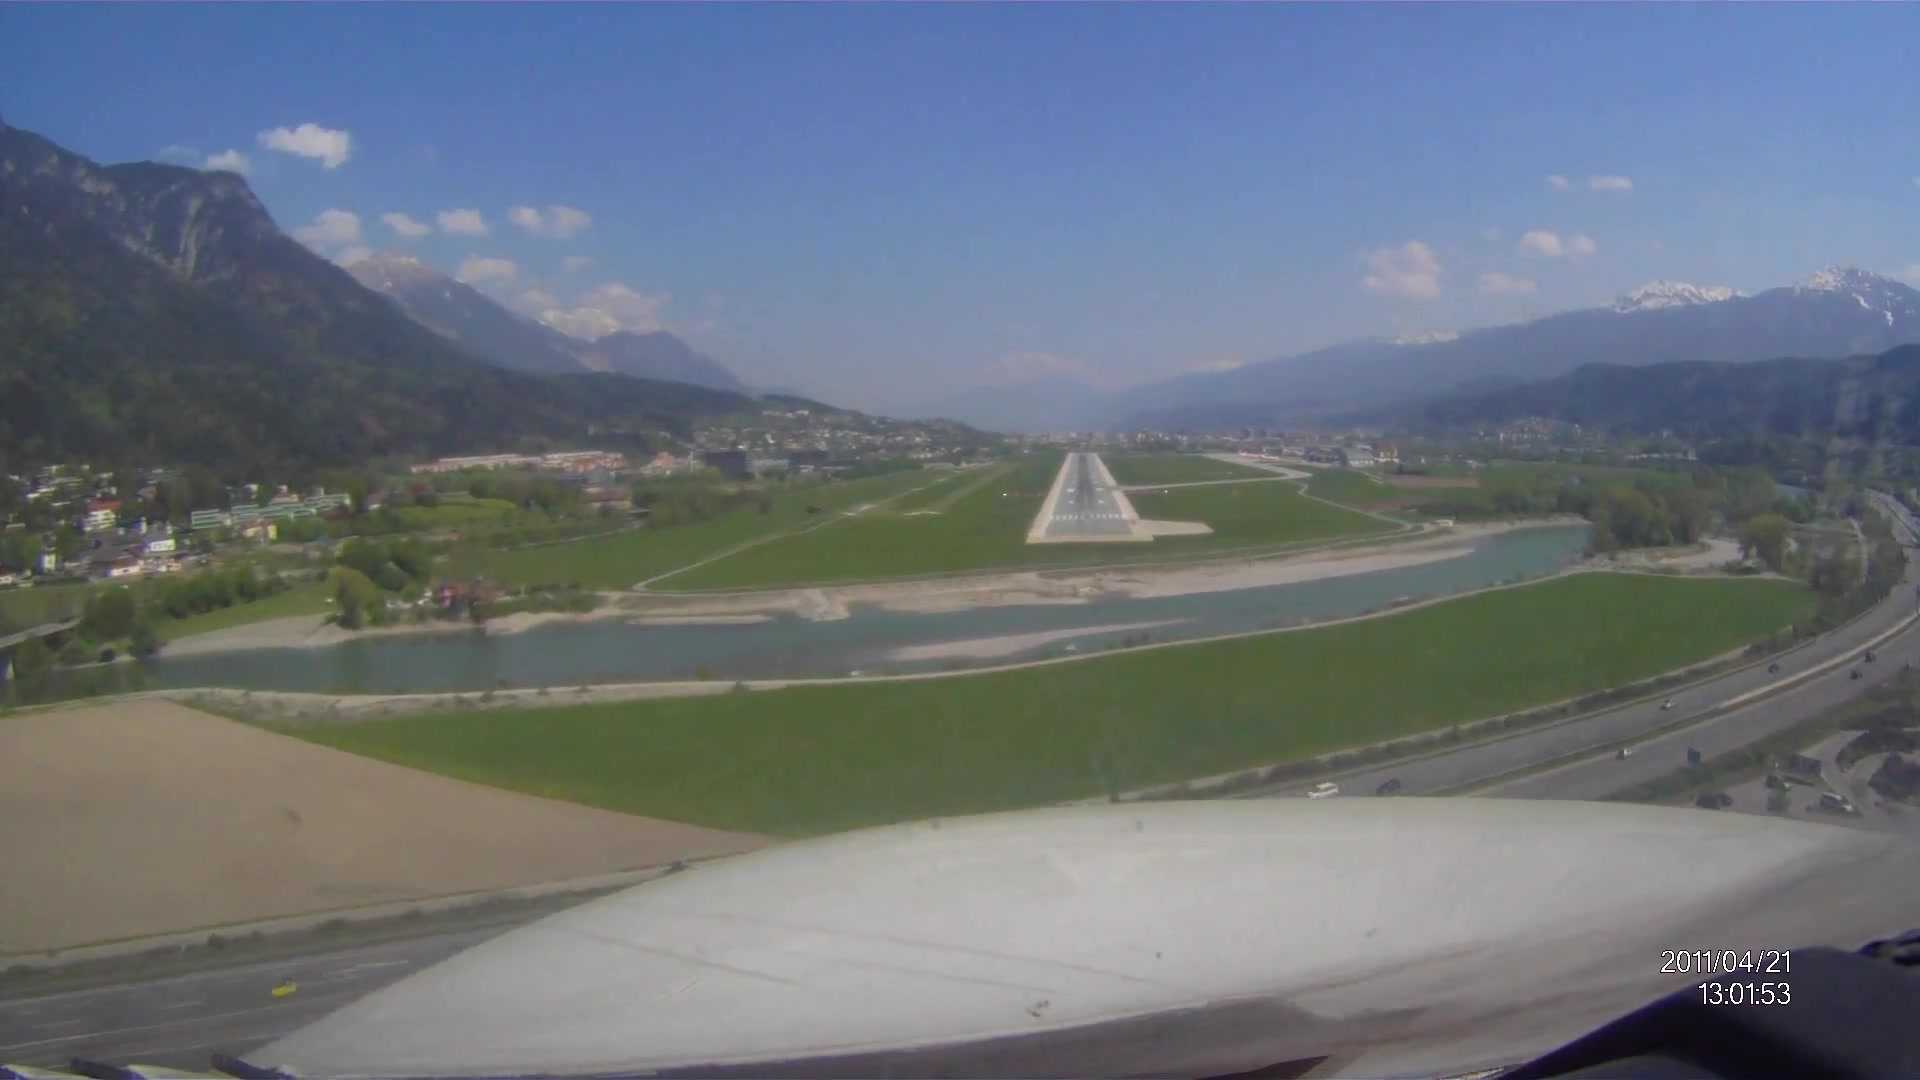entrance: (1050, 512, 1125, 521)
runway: (1048, 454, 1126, 527)
